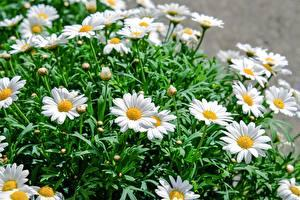chamomile: (112, 102, 159, 132), (229, 126, 266, 157), (49, 83, 77, 122), (230, 86, 261, 118), (0, 165, 28, 195), (0, 79, 27, 108), (198, 102, 231, 125), (148, 114, 178, 139), (269, 88, 292, 114), (233, 58, 259, 81), (163, 3, 194, 22), (165, 181, 195, 200), (25, 19, 48, 42), (68, 28, 104, 42), (29, 5, 56, 23), (8, 42, 42, 56), (128, 21, 150, 41), (261, 50, 284, 68), (39, 35, 66, 50), (0, 187, 31, 200), (109, 9, 131, 26), (183, 27, 205, 44), (103, 38, 125, 54), (35, 186, 58, 200), (88, 15, 108, 28), (283, 185, 300, 200), (198, 15, 218, 27), (140, 17, 154, 30)
